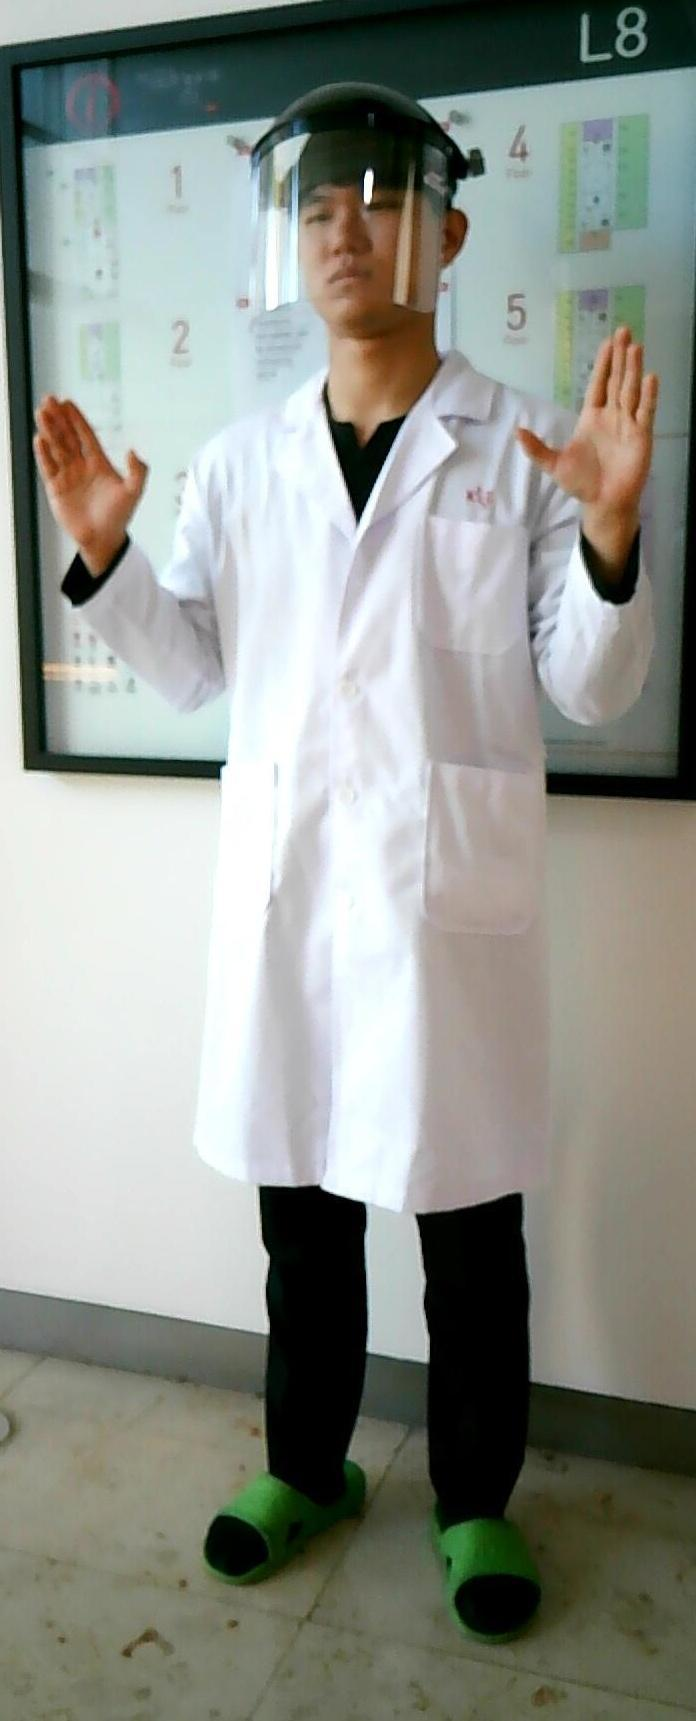lab_coat: (207, 391, 530, 1189)
